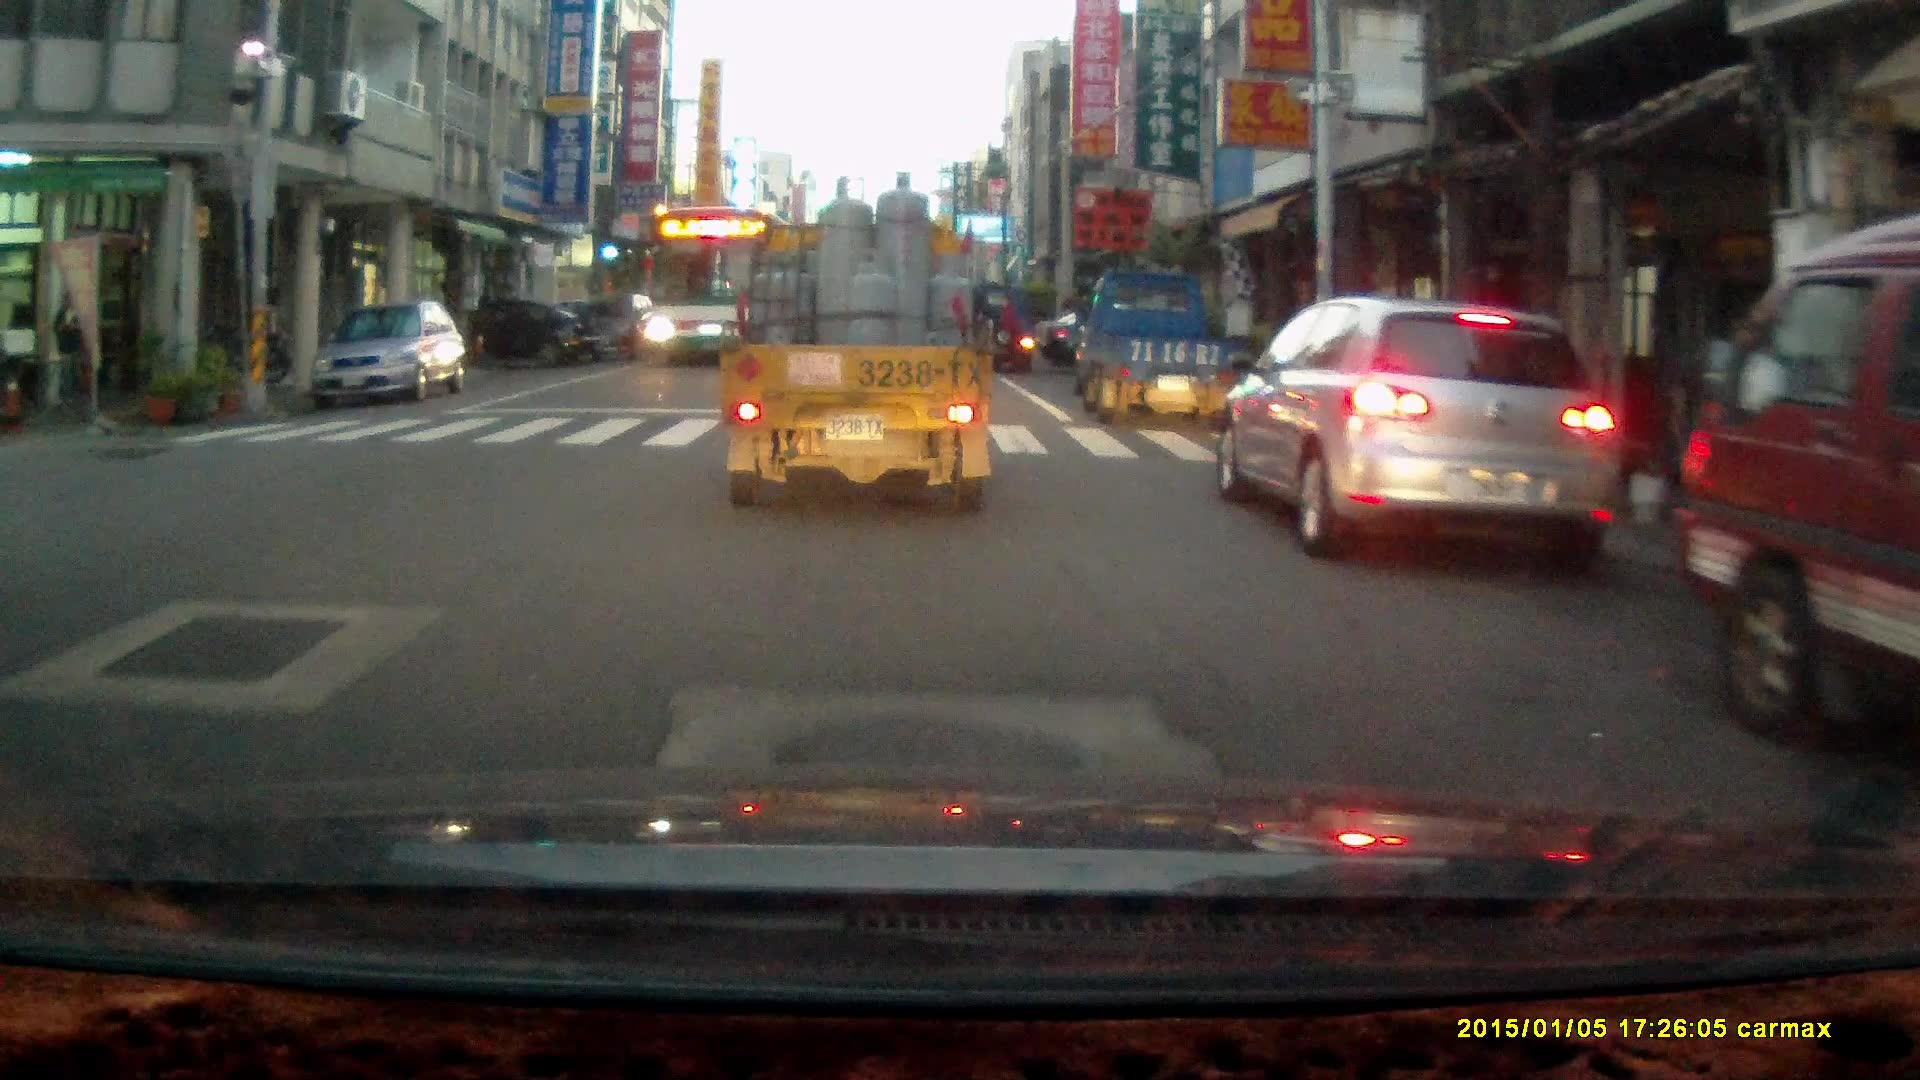pedestrian: (50, 283, 85, 417), (996, 291, 1021, 368)
vehicle: (1666, 213, 1920, 727), (1218, 298, 1618, 579), (726, 171, 994, 518), (1073, 269, 1238, 427), (639, 206, 786, 373), (309, 301, 470, 412), (401, 297, 598, 369), (575, 295, 670, 365)
